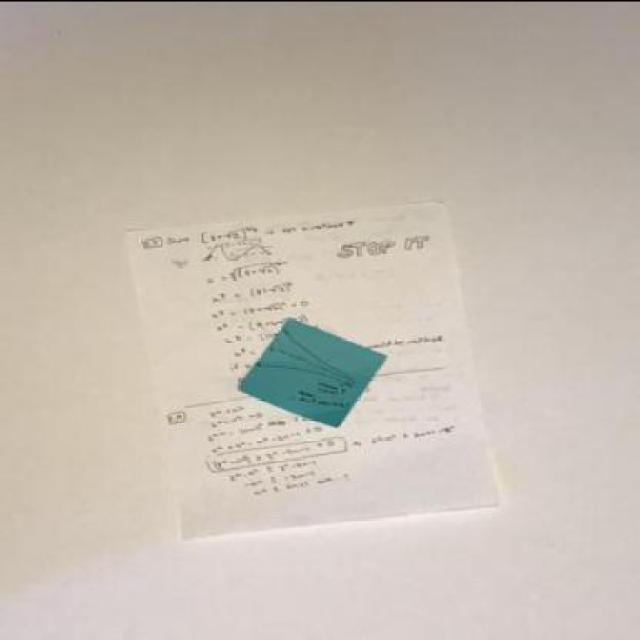PAPER: (122, 202, 495, 542), (236, 318, 386, 429)
